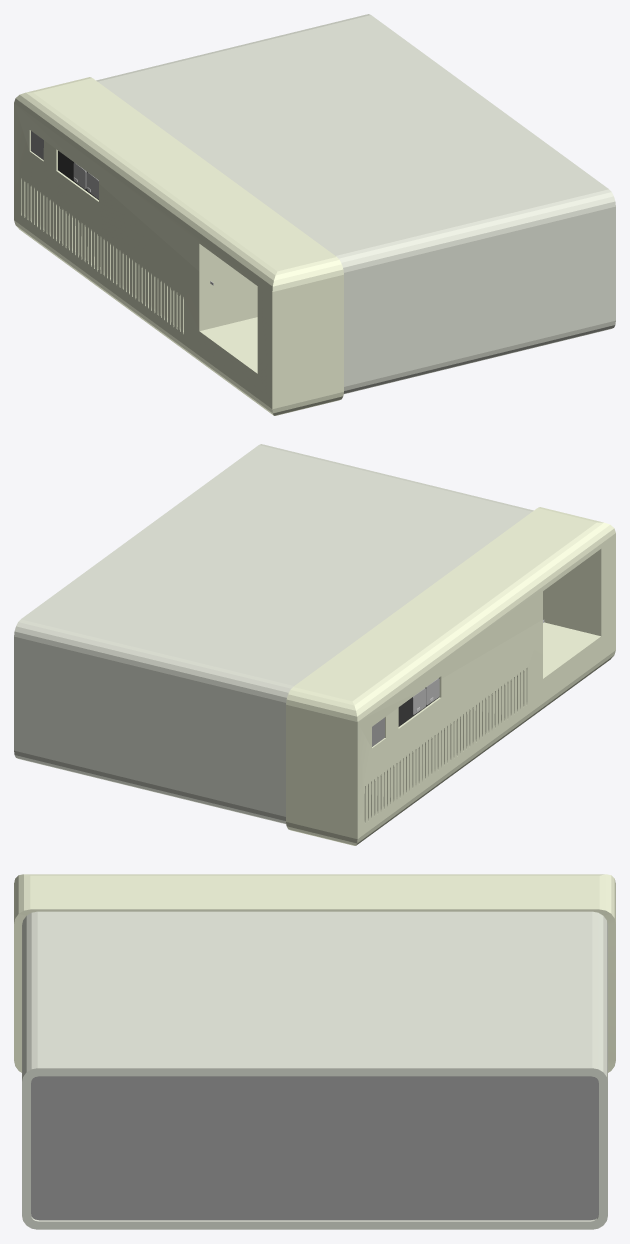
File: cpu.obj
3 renders of one model, top to bottom at view 1: azimuth 30°, elevation 25°; view 2: azimuth 150°, elevation 25°; view 3: azimuth 270°, elevation 25°, orthographic. The views are drawn at different scales.
Bounding box in the file's own units: 0.028 × 0.011 × 0.0361.
